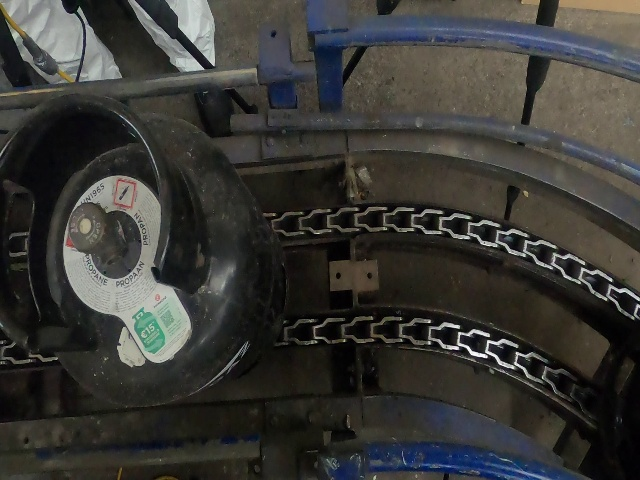gas_bottle: (6, 3, 639, 480)
